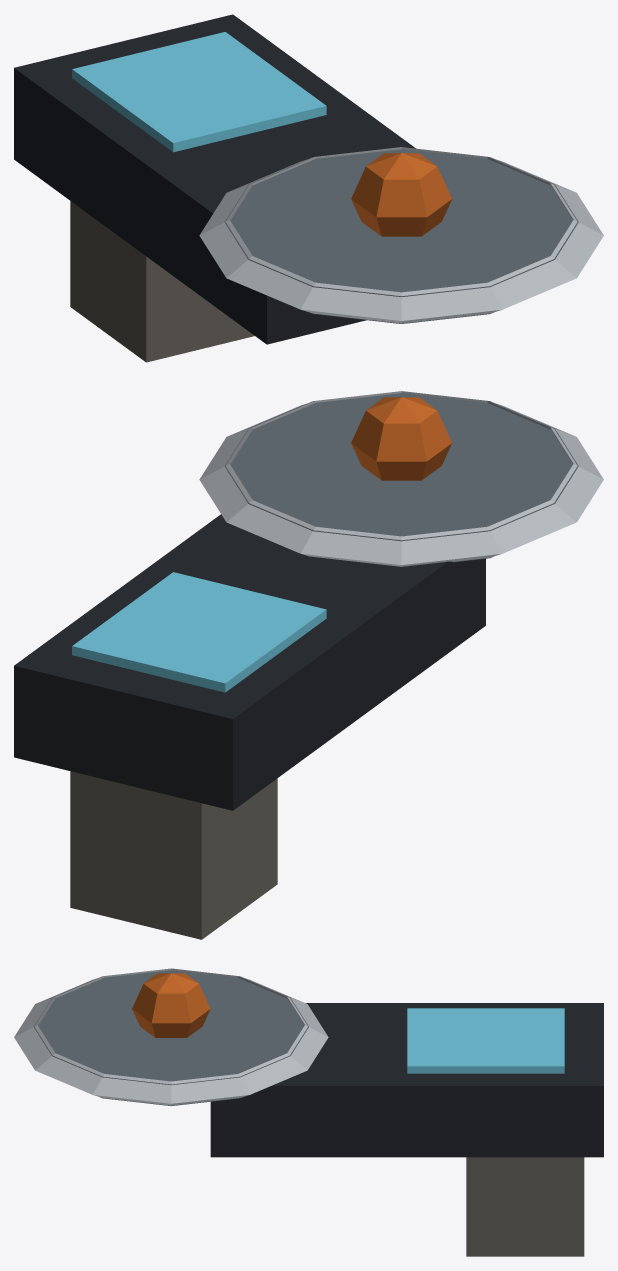
Rendered from holotrace-device.glb.
The picture shows the model from 3 angles, top to bottom: view 1: azimuth 30°, elevation 25°; view 2: azimuth 150°, elevation 25°; view 3: azimuth 270°, elevation 25°; orthographic projection. The views are drawn at different scales.
Parts seen in each view (by area): view 1: m; view 2: m; view 3: m.
Boxes of the visible parts, left/top/right/bottom form: m: left=14, top=14, right=603, bottom=362; m: left=14, top=391, right=603, bottom=939; m: left=14, top=968, right=603, bottom=1256.
Size of the model in its own units: 0.08 by 0.0725 by 0.15.
